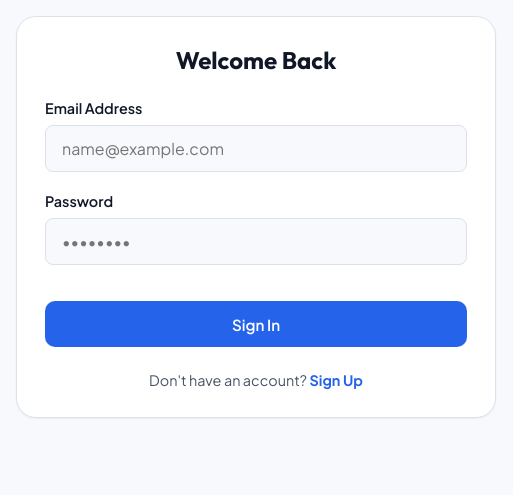
Login › shows the invalid-credentials error for a 401 response
The width and height of the screenshot is (513, 495).
Type "user@example.com" into the field labelled "Email Address" at (256,148), box [45,125,467,172]
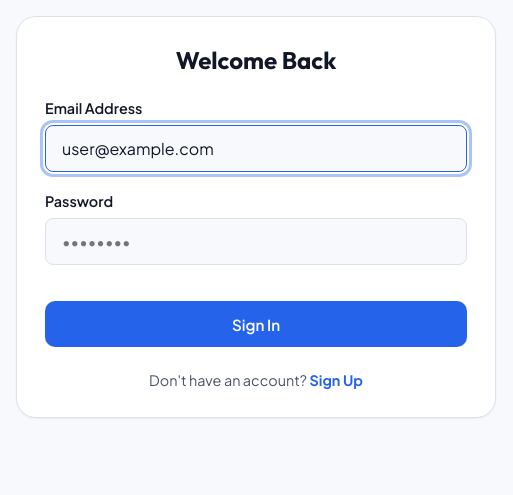
Type "wrong-password" into the password field labelled "Password" at (256,242), box [45,218,467,265]
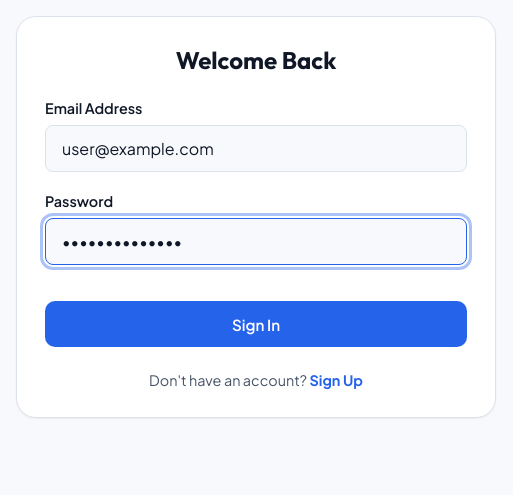
Click the button "Sign In" at (256,324), box [45,301,467,347]
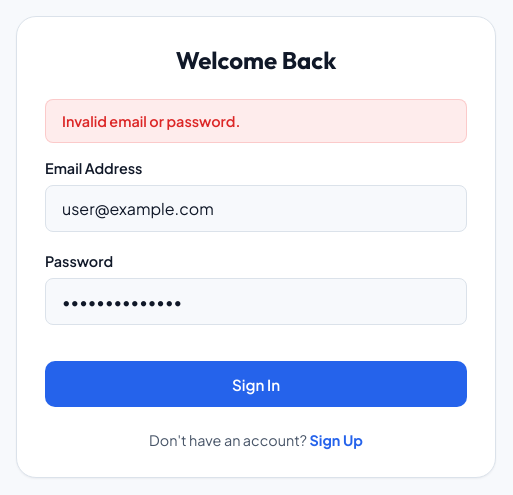
Expected: the text "Invalid email or password." is shown, [45,99,467,143]
